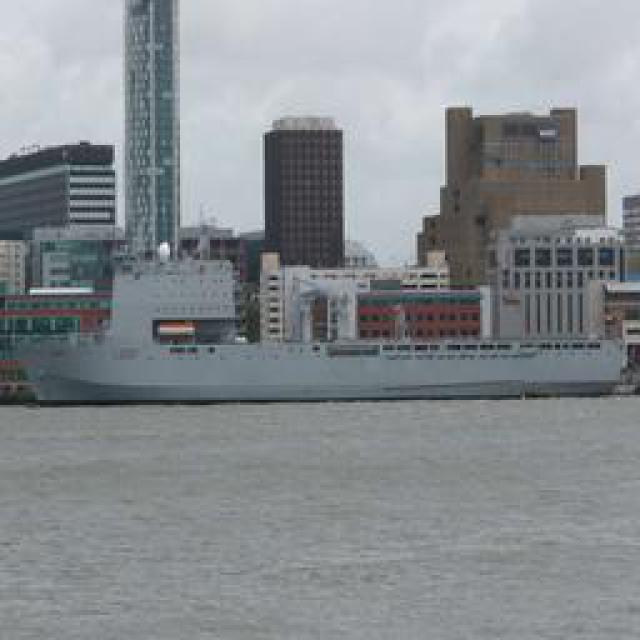Ship: (12, 277, 630, 407)
